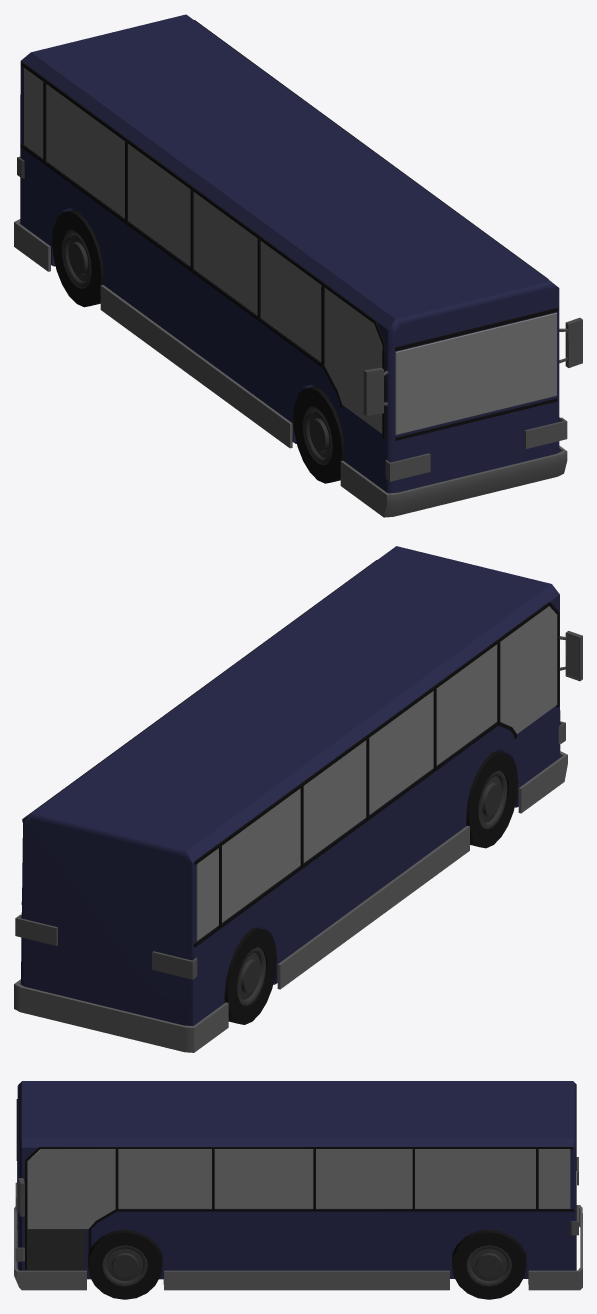
Rendered from Bus_01.fbx.
The picture shows the model from 3 angles, top to bottom: view 1: azimuth 30°, elevation 25°; view 2: azimuth 150°, elevation 25°; view 3: azimuth 270°, elevation 25°; orthographic projection. The views are drawn at different scales.
Visible parts, largest first — view 1: Bus_01; view 2: Bus_01; view 3: Bus_01.
Part boxes in pixels (x1,y1,x2,y2): Bus_01: (14, 14, 582, 517); Bus_01: (14, 546, 582, 1052); Bus_01: (14, 1081, 582, 1299).
Bounding box in the file's own units: 764 × 704 × 2304.
